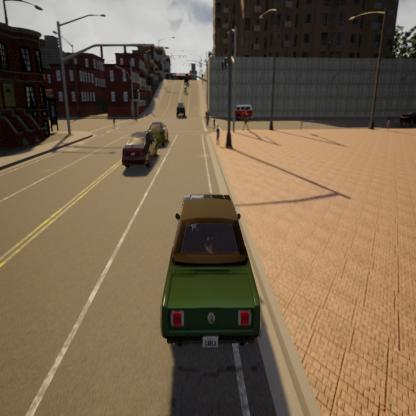Cars: (153, 181, 271, 354), (121, 132, 161, 168), (146, 121, 172, 149), (234, 102, 256, 122), (398, 109, 416, 130), (174, 99, 188, 121)
Pedestrian: (241, 108, 251, 134), (214, 124, 223, 149), (386, 114, 395, 134), (203, 107, 211, 129), (110, 112, 119, 131), (212, 112, 218, 134)
